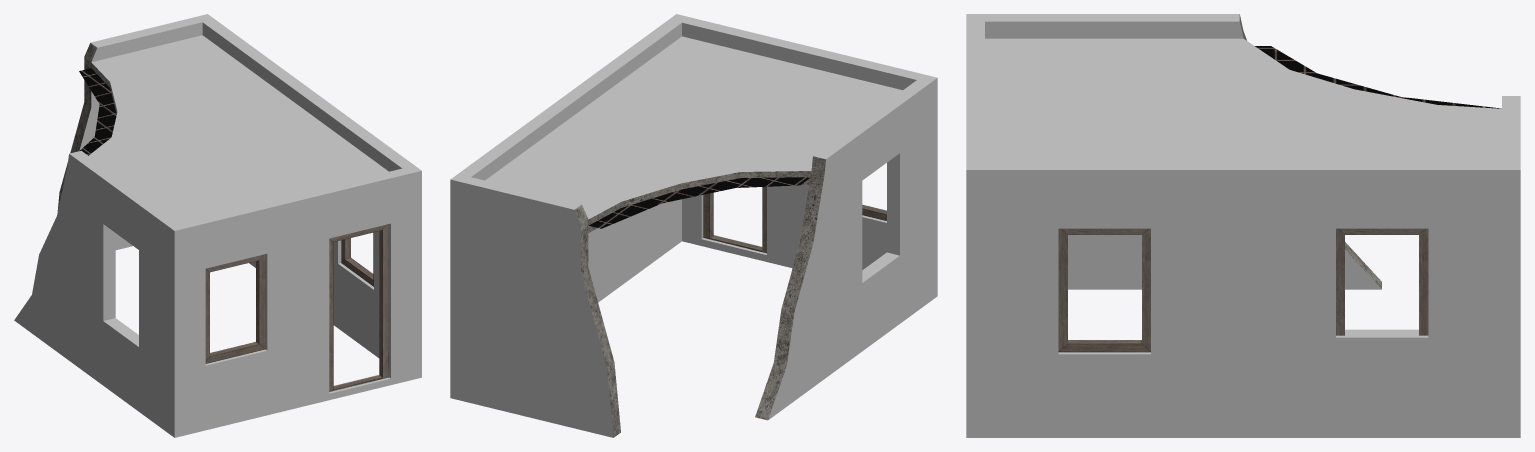
Rendered from Building_A_Destroyed.fbx.
3 views of the same model, side by side, from view 1: azimuth 30°, elevation 25°; view 2: azimuth 150°, elevation 25°; view 3: azimuth 270°, elevation 25° (orthographic). The views are drawn at different scales.
Visible parts, largest first — view 1: Walls, Rooftop, Windows, Rebar, Broken_Concrete; view 2: Walls, Rooftop, Broken_Concrete, Rebar, Windows; view 3: Walls, Rooftop, Windows, Rebar.
Boxes of the visible parts, x1,y1,x2,y2 form: Walls: (14,14,421,437); Rooftop: (88,35,388,222); Windows: (205,224,389,391); Rebar: (79,68,116,155); Broken_Concrete: (57,43,117,211); Walls: (450,14,937,437); Rooftop: (485,36,902,219); Broken_Concrete: (574,156,825,437); Rebar: (589,177,810,228); Windows: (703,186,886,253); Walls: (966,14,1520,437); Rooftop: (985,38,1501,162); Windows: (1058,228,1428,352); Rebar: (1255,46,1501,108).
Size of the model in its own units: 400 by 320 by 600.
